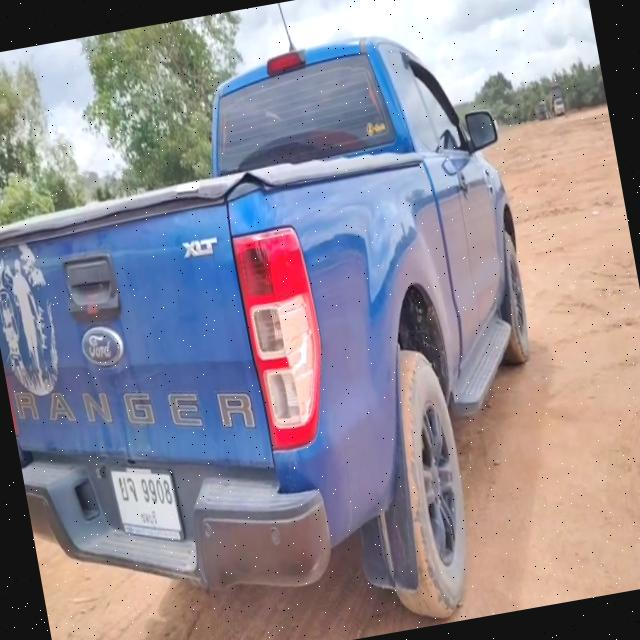Digit: (138, 469, 173, 508)
Licenseplate: (106, 464, 186, 543)
Provincename: (138, 506, 160, 532)
Thaichar: (116, 469, 138, 506)
